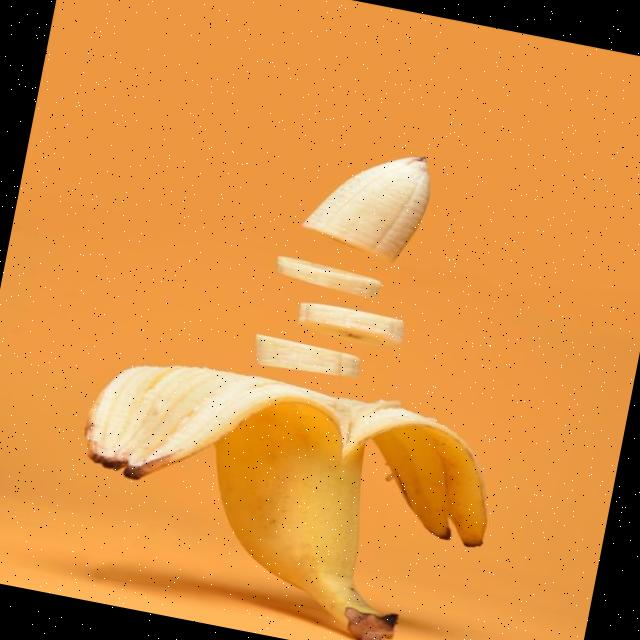banana-peel: (54, 100, 556, 640), (54, 342, 507, 640)
